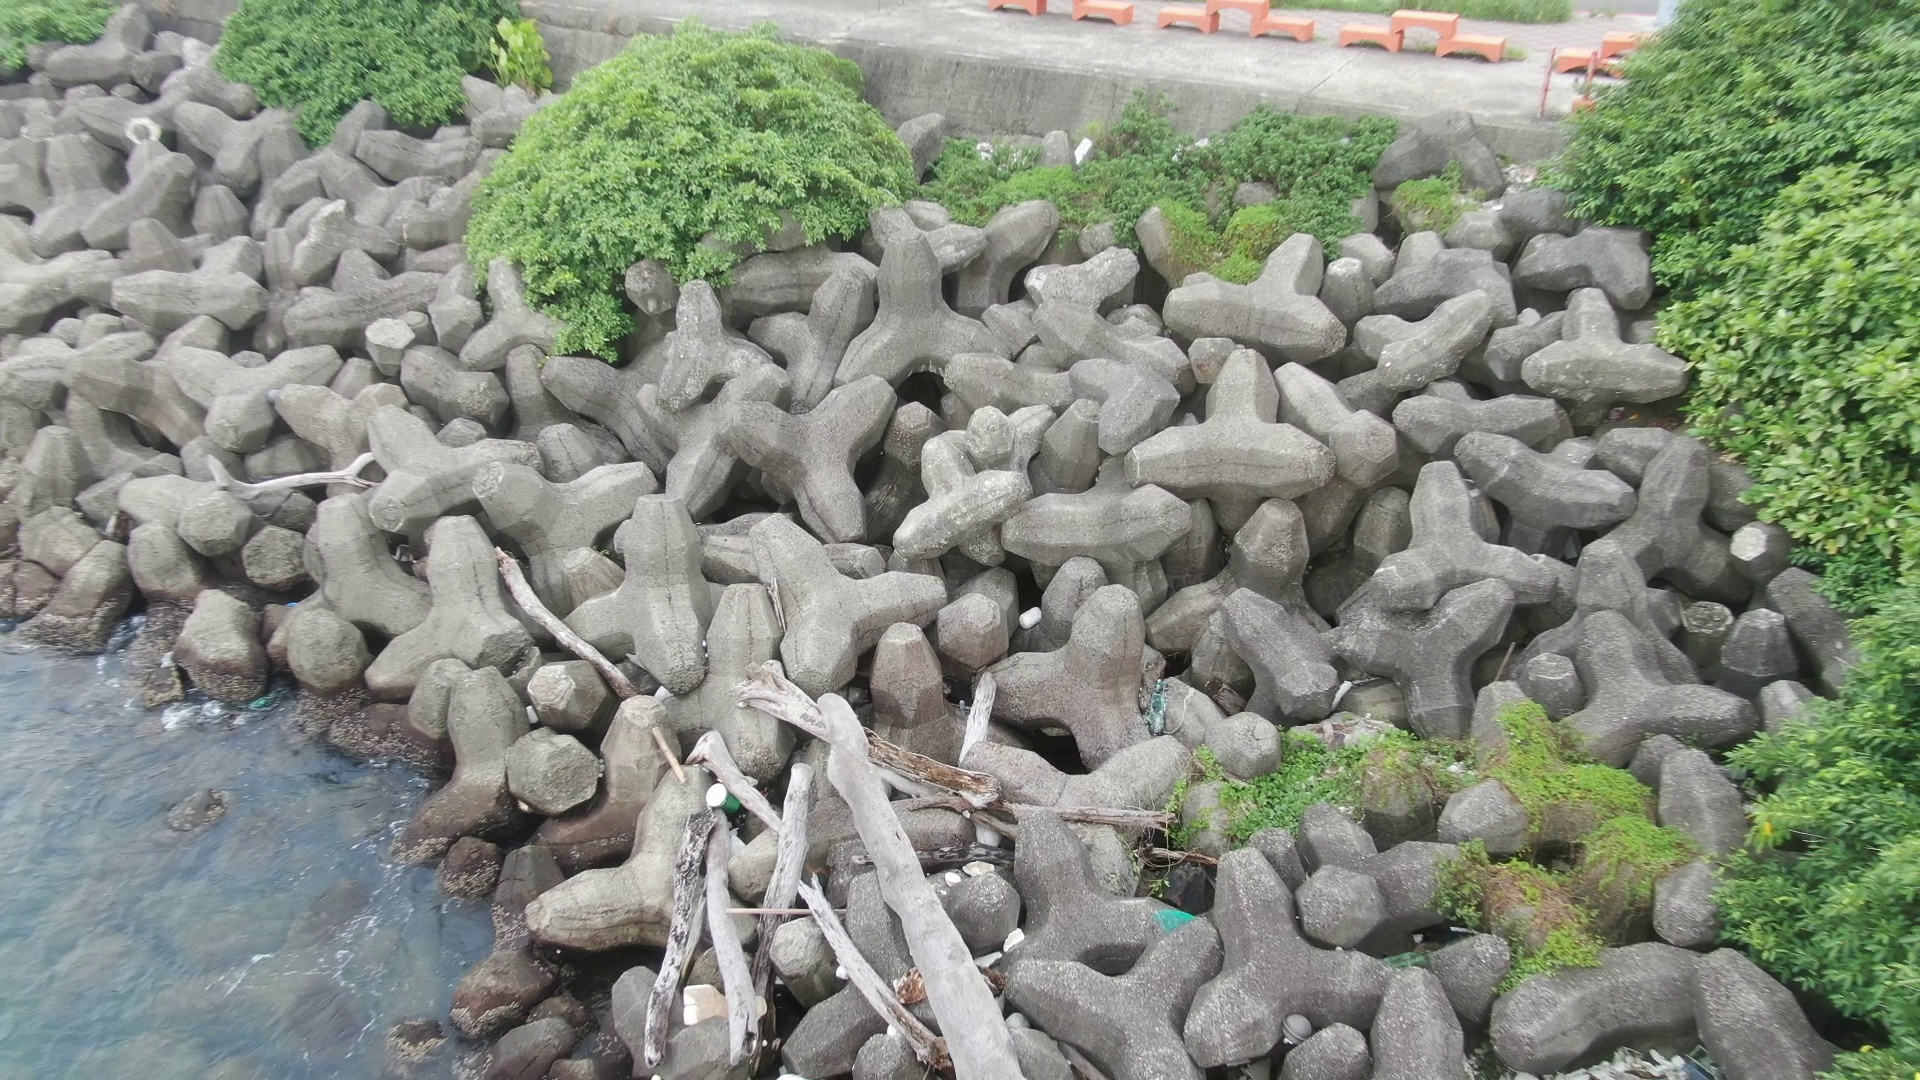garbage: (700, 777, 745, 824), (1011, 597, 1044, 636), (1068, 131, 1096, 170)
